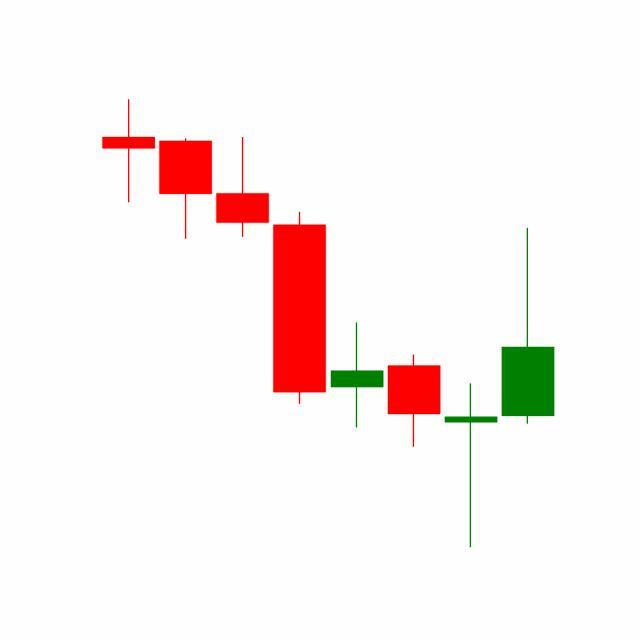Three Outside Up-Down: (328, 320, 500, 549)
